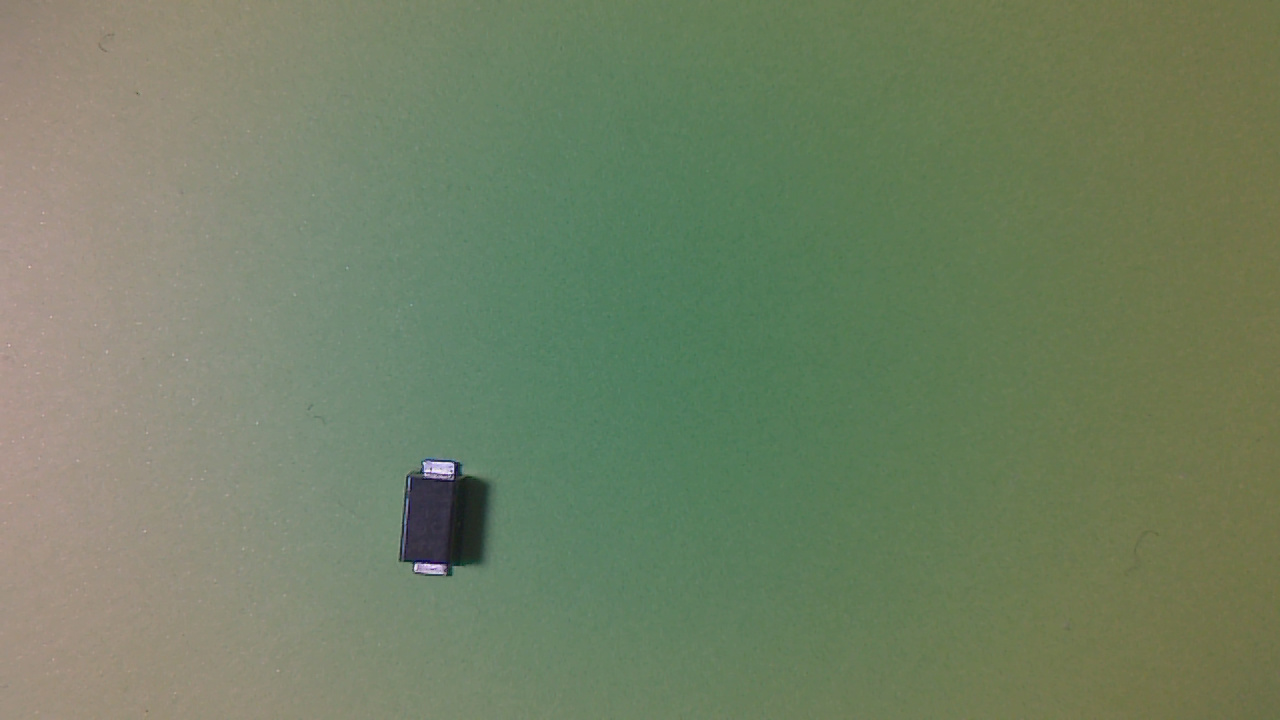Diode: (403, 463, 477, 585)
